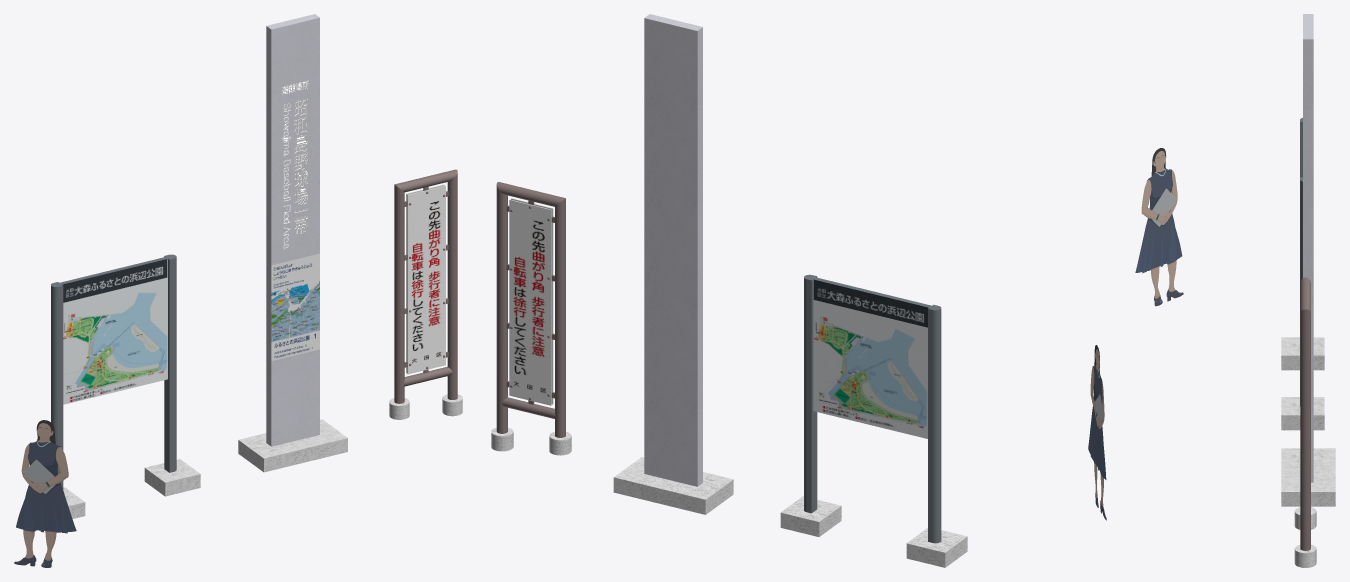
Rendered from Sinage.glb.
3 views of the same model, side by side, from view 1: azimuth 30°, elevation 25°; view 2: azimuth 150°, elevation 25°; view 3: azimuth 270°, elevation 25° (orthographic). The views are drawn at different scales.
Visible parts, largest first — view 1: Geom3D (×13), Component#7; view 2: Geom3D (×10); view 3: Geom3D (×12), Geom3D_Component#4 (×2).
Boxes of the visible parts, <box> form: Geom3D (×13): <box>21,14,457,558</box>; Component#7: <box>281,80,308,248</box>; Geom3D (×10): <box>496,14,967,567</box>; Geom3D (×12): <box>1135,14,1335,550</box>; Geom3D_Component#4 (×2): <box>1294,507,1316,567</box>.
Bounding box in the file's own units: 5.7 × 4.65 × 1.84.
Materials: 33 (9 with a texture image).
